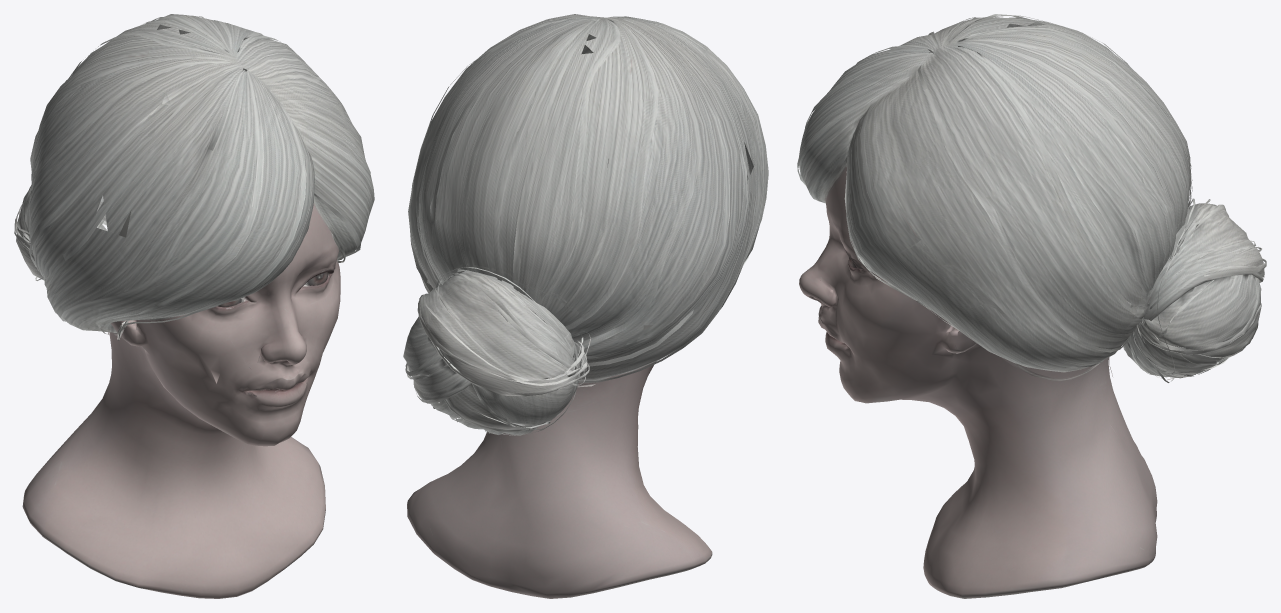
The model's file is hair-7.glb.
3 views of the same model, side by side, from view 1: azimuth 30°, elevation 25°; view 2: azimuth 150°, elevation 25°; view 3: azimuth 270°, elevation 25° (orthographic).
Size of the model in its own units: 0.5527 by 0.9507 by 0.7378.
1 material, 1 textured.
